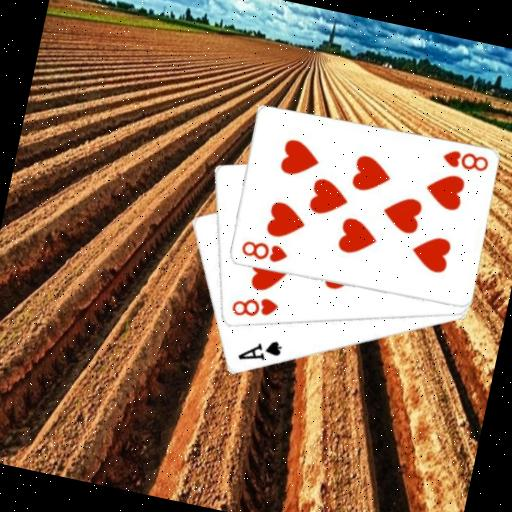8H: (226, 288, 281, 326), (237, 235, 291, 267), (438, 145, 491, 176)
AS: (234, 331, 285, 370)
